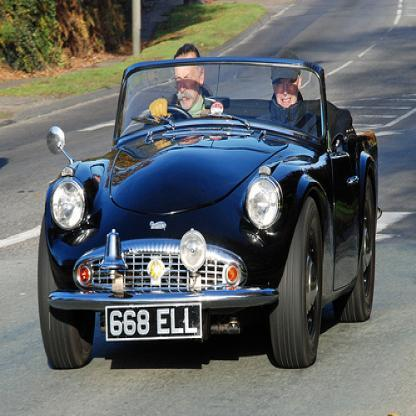car: (34, 44, 383, 382)
